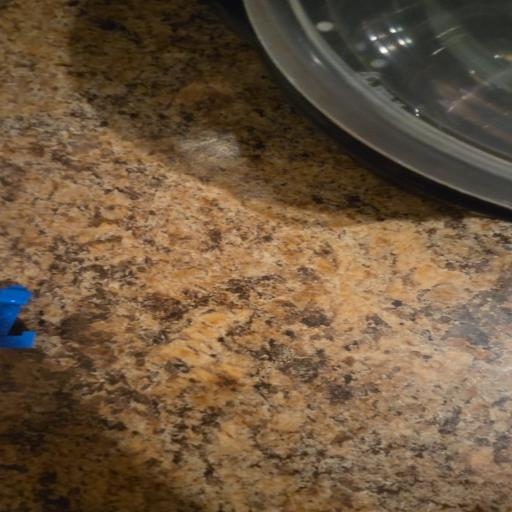Blue: (0, 285, 35, 348)
